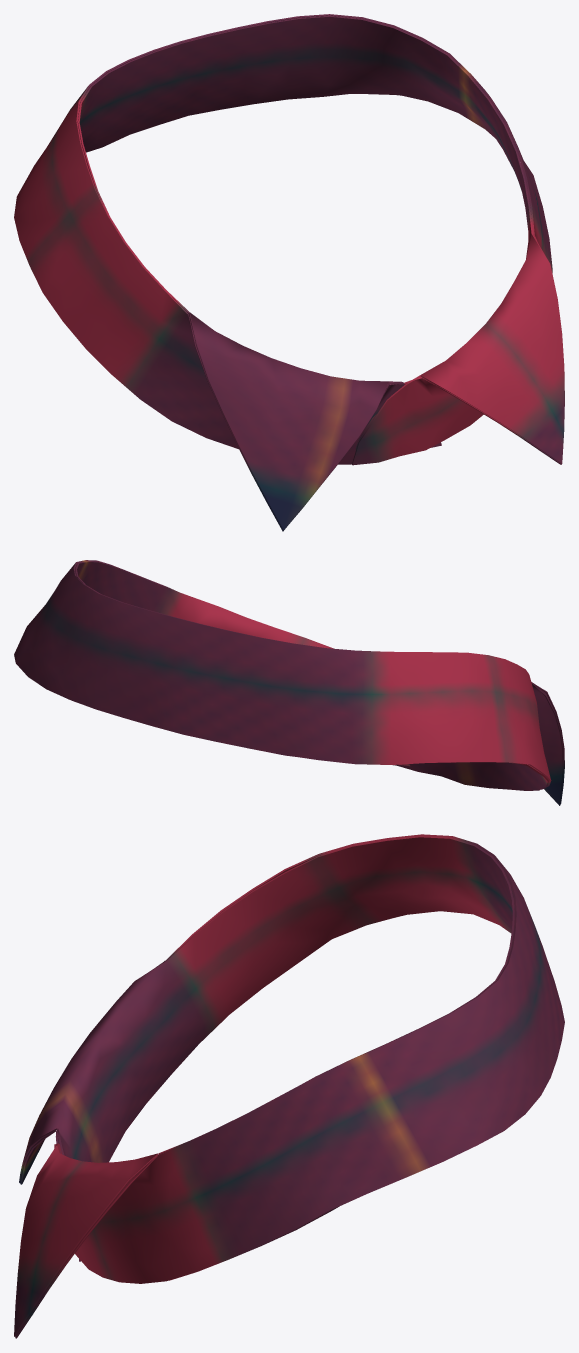
The model's file is collar-wing.glb.
3 views of the same model, one above another, from view 1: azimuth 30°, elevation 25°; view 2: azimuth 150°, elevation 25°; view 3: azimuth 270°, elevation 25° (orthographic). The views are drawn at different scales.
Visible parts, largest first — view 1: Collar_Stand_Node, Collar_Node; view 2: Collar_Node, Collar_Stand_Node; view 3: Collar_Node, Collar_Stand_Node.
Part boxes in pixels (box(x1,y1,x2,y2)): Collar_Stand_Node: box(77, 15, 564, 530); Collar_Node: box(14, 14, 561, 531); Collar_Node: box(14, 560, 563, 805); Collar_Stand_Node: box(74, 561, 564, 803); Collar_Node: box(15, 834, 564, 1338); Collar_Stand_Node: box(14, 836, 514, 1336).
Bounding box in the file's own units: 0.1605 × 0.0955 × 0.1364.
Materials: 1 (1 with a texture image).
